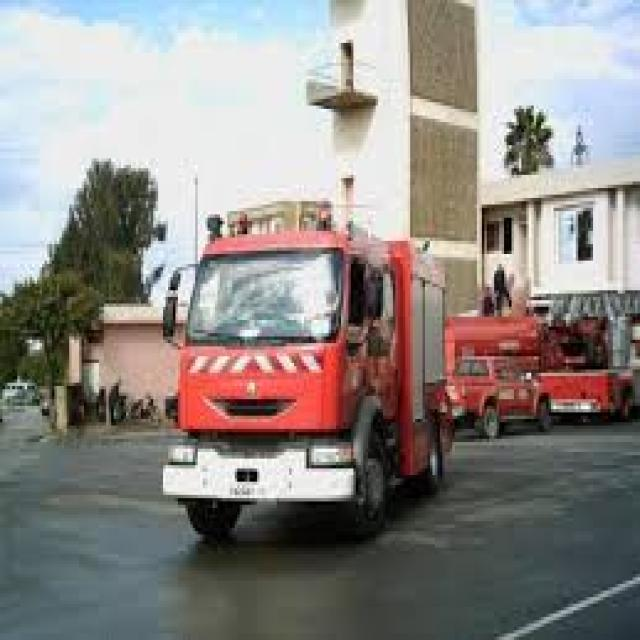pompier: (156, 213, 457, 552)
